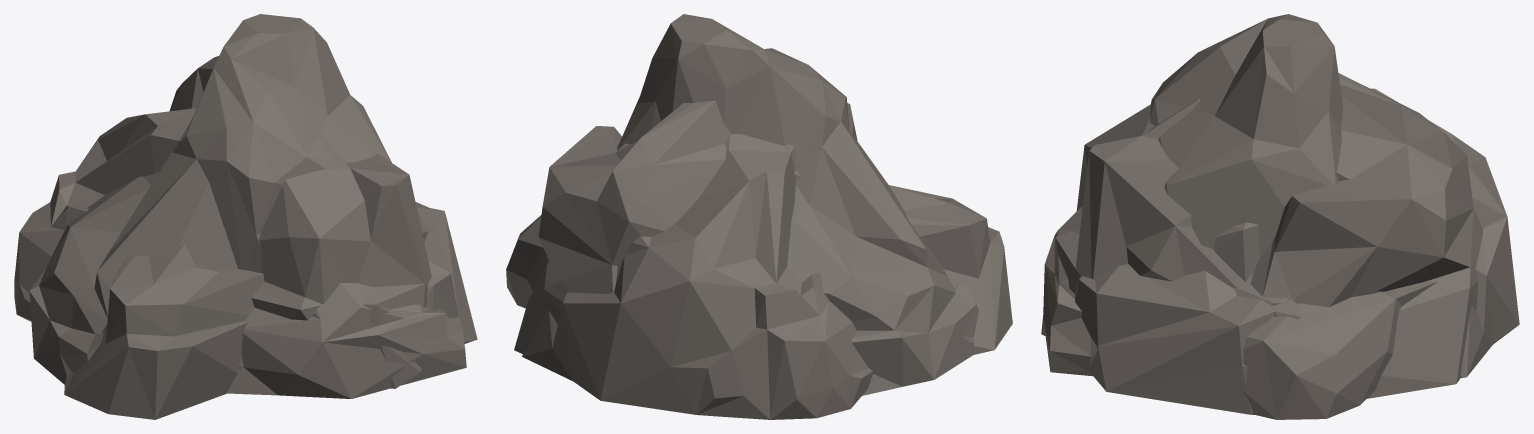
File: Env_Rock_Huge.FBX
The picture shows the model from 3 angles, left to right: view 1: azimuth 30°, elevation 25°; view 2: azimuth 150°, elevation 25°; view 3: azimuth 270°, elevation 25°; orthographic projection. The views are drawn at different scales.
Visible parts, largest first — view 1: Env_Rock_Huge_01, Env_Rock_Huge_03, Env_Rock_Huge_02; view 2: Env_Rock_Huge_03, Env_Rock_Huge_01, Env_Rock_Huge_02; view 3: Env_Rock_Huge_02, Env_Rock_Huge_01, Env_Rock_Huge_03.
Part boxes in pixels (box(x1,y1,x2,y2)): Env_Rock_Huge_01: box(29, 14, 466, 398); Env_Rock_Huge_03: box(14, 108, 431, 325); Env_Rock_Huge_02: box(64, 56, 477, 419); Env_Rock_Huge_03: box(522, 103, 872, 419); Env_Rock_Huge_01: box(506, 14, 978, 395); Env_Rock_Huge_02: box(514, 100, 1012, 354); Env_Rock_Huge_02: box(1041, 73, 1483, 414); Env_Rock_Huge_01: box(1043, 14, 1437, 419); Env_Rock_Huge_03: box(1054, 88, 1519, 377).
Size of the model in its own units: 1446 by 924 by 1334.
1 material, 1 textured.
